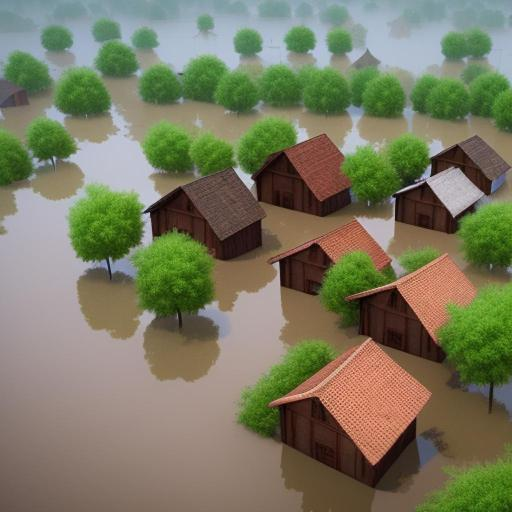flood: (0, 76, 512, 512), (118, 6, 472, 94), (0, 19, 101, 79), (476, 25, 512, 80)
house: (267, 332, 433, 490), (341, 253, 479, 367), (153, 162, 259, 270), (268, 217, 394, 300), (250, 126, 354, 225), (395, 164, 484, 238), (431, 136, 511, 200), (0, 73, 29, 112)
